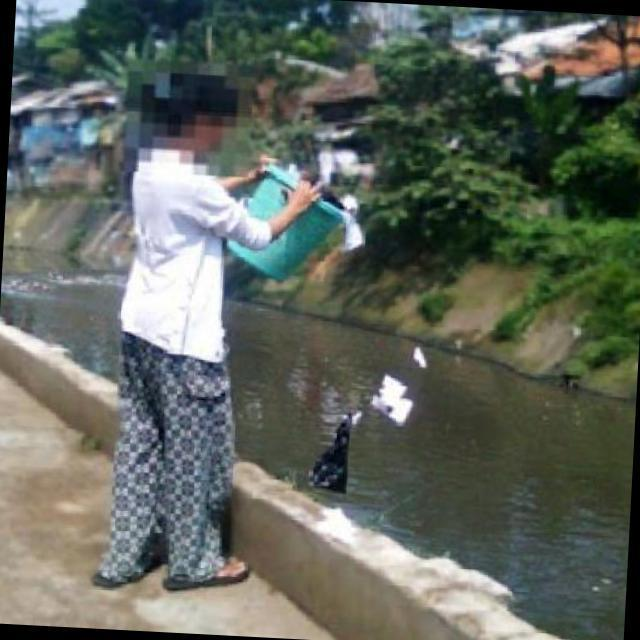Plastic_Bag: (301, 416, 359, 499)
